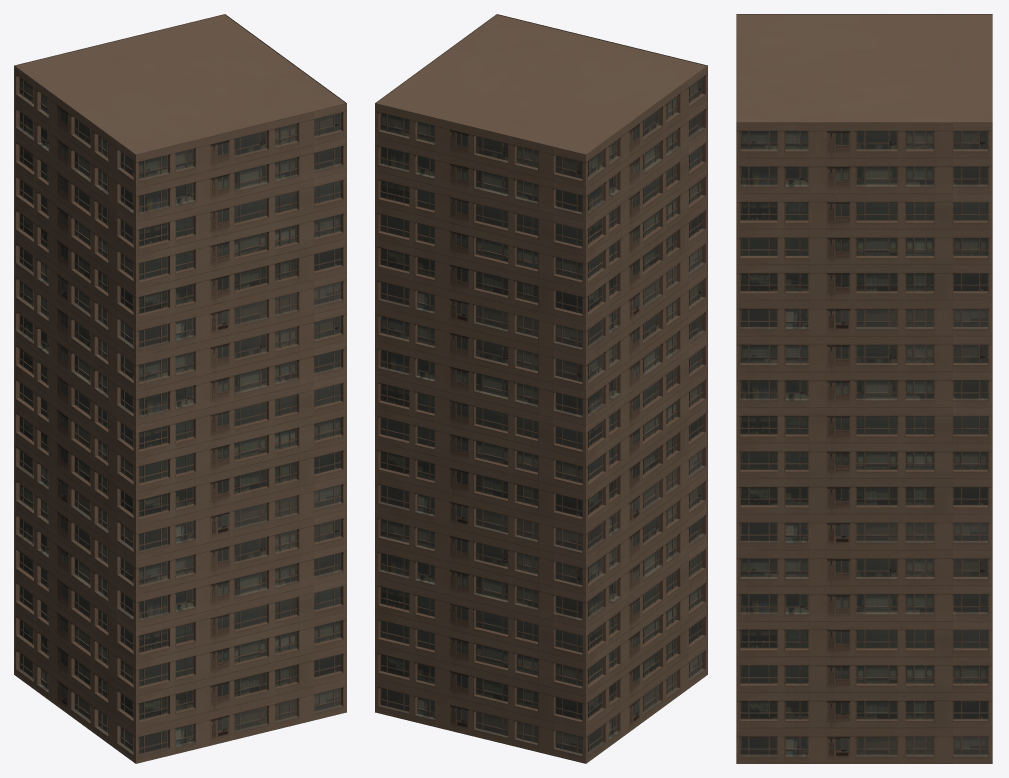
File: Cyberpunk Building V2.fbx
The picture shows the model from 3 angles, left to right: view 1: azimuth 30°, elevation 25°; view 2: azimuth 150°, elevation 25°; view 3: azimuth 270°, elevation 25°; orthographic projection. The views are drawn at different scales.
Parts seen in each view (by area): view 1: Cyberpunk Building V2; view 2: Cyberpunk Building V2; view 3: Cyberpunk Building V2.
Boxes of the visible parts, x1=… form: Cyberpunk Building V2: x1=14, y1=14, x2=346, y2=763; Cyberpunk Building V2: x1=375, y1=14, x2=707, y2=763; Cyberpunk Building V2: x1=736, y1=14, x2=992, y2=763.
Size of the model in its own units: 1840 by 5077 by 1854.
